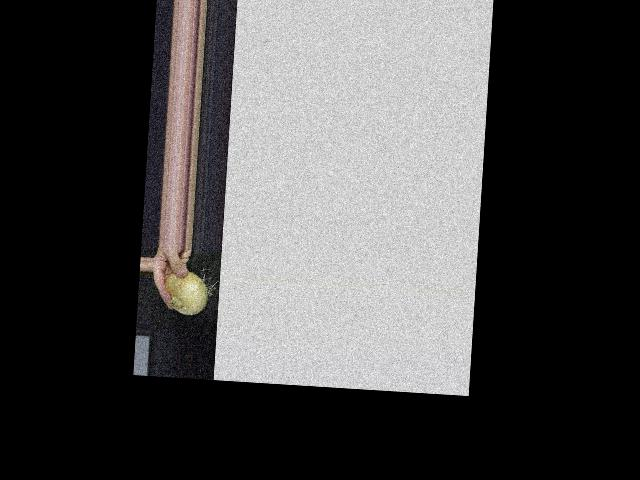onion: (162, 270, 209, 315)
